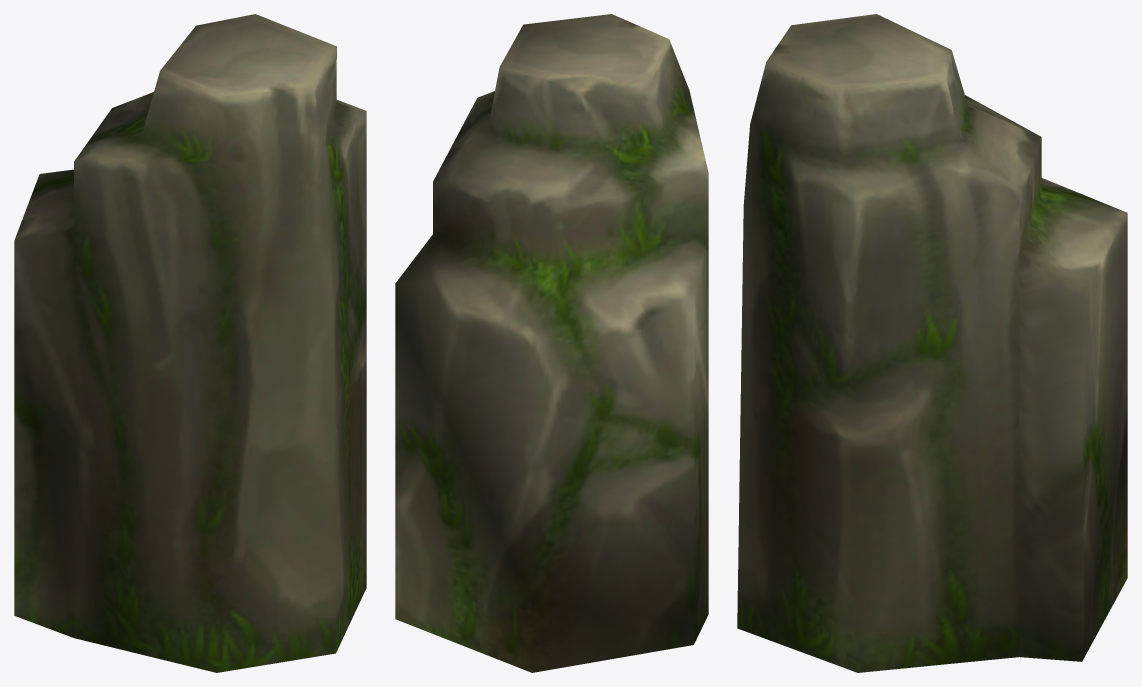
The model's file is RockFormation_4_5 (19).fbx.
The picture shows the model from 3 angles, left to right: view 1: azimuth 30°, elevation 25°; view 2: azimuth 150°, elevation 25°; view 3: azimuth 270°, elevation 25°; orthographic projection. The views are drawn at different scales.
Parts seen in each view (by area): view 1: RockFormation_4_5 (19); view 2: RockFormation_4_5 (19); view 3: RockFormation_4_5 (19).
Part boxes in pixels (<box>): RockFormation_4_5 (19): <box>14,14,366,672</box>; RockFormation_4_5 (19): <box>395,14,708,672</box>; RockFormation_4_5 (19): <box>737,14,1127,672</box>.
Size of the model in its own units: 342 by 622 by 392.
